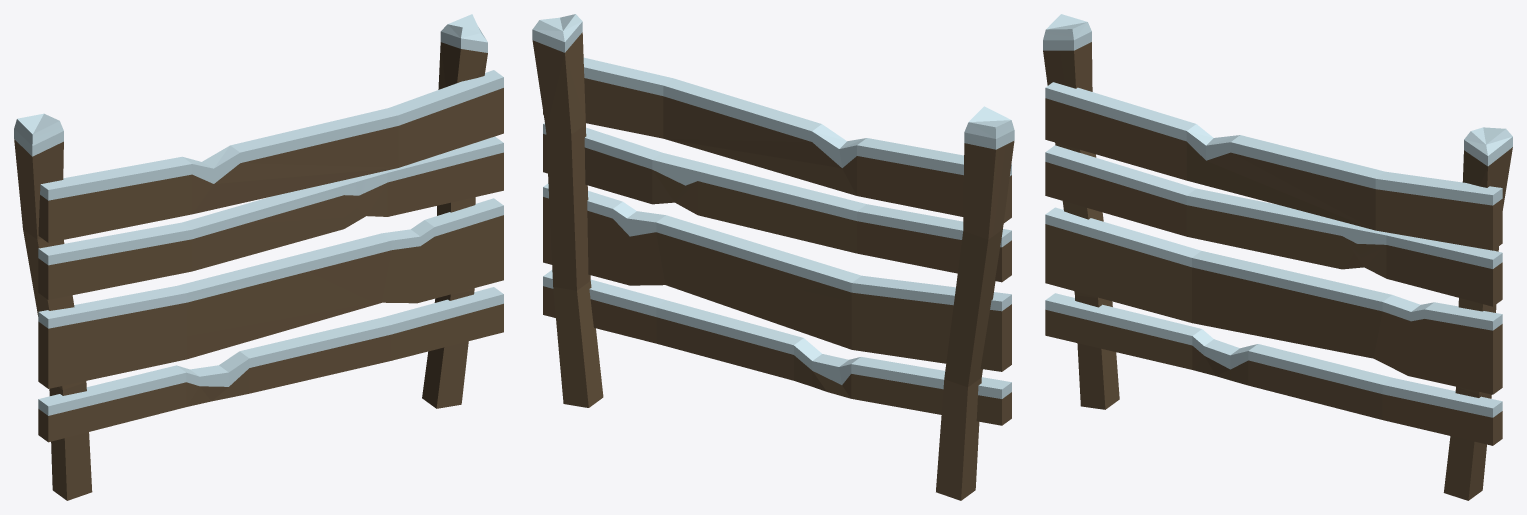
File: SM_Bld_Fence_02_Snow.gltf
3 views of the same model, side by side, from view 1: azimuth 30°, elevation 25°; view 2: azimuth 150°, elevation 25°; view 3: azimuth 330°, elevation 25° (orthographic). The views are drawn at different scales.
Parts seen in each view (by area): view 1: SM_Bld_Fence_02_Snow; view 2: SM_Bld_Fence_02_Snow; view 3: SM_Bld_Fence_02_Snow.
Boxes of the visible parts, left/top/right/bottom form: SM_Bld_Fence_02_Snow: left=14, top=14, right=503, bottom=500; SM_Bld_Fence_02_Snow: left=532, top=14, right=1014, bottom=500; SM_Bld_Fence_02_Snow: left=1043, top=14, right=1512, bottom=500.
Bounding box in the file's own units: 1.63 × 1.28 × 0.1992.
1 material, 1 textured.
